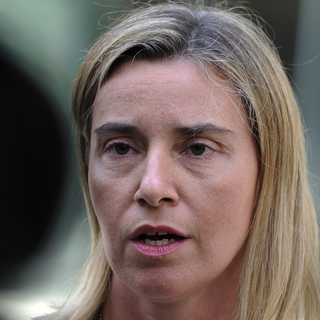eye: (175, 138, 223, 163), (100, 138, 145, 163)
